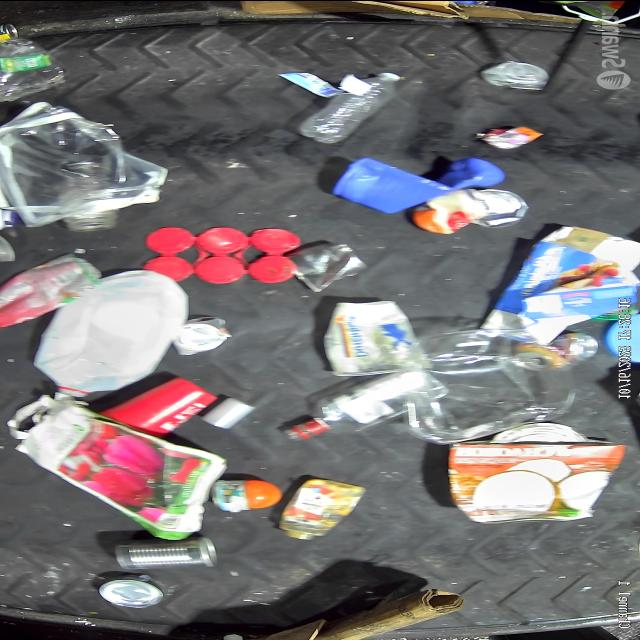can: (427, 426, 623, 528), (95, 524, 217, 578)
milk_jug: (46, 266, 182, 398)
plastic_bottle: (293, 68, 413, 140)
